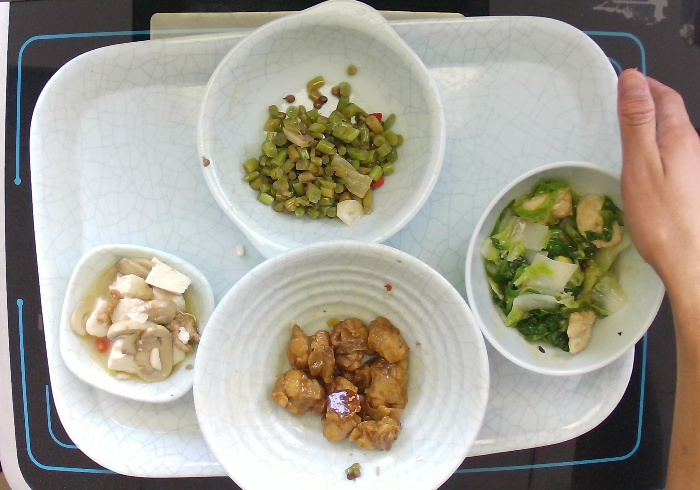JYsf-Fan_Wan: (457, 154, 671, 384)
JYsf-Shuang_Er_Wan: (197, 1, 449, 264)
JYsf-Si_Fang_Die: (51, 235, 218, 411)
JYsf-Xiao_Tang_Wan: (182, 236, 493, 487)
